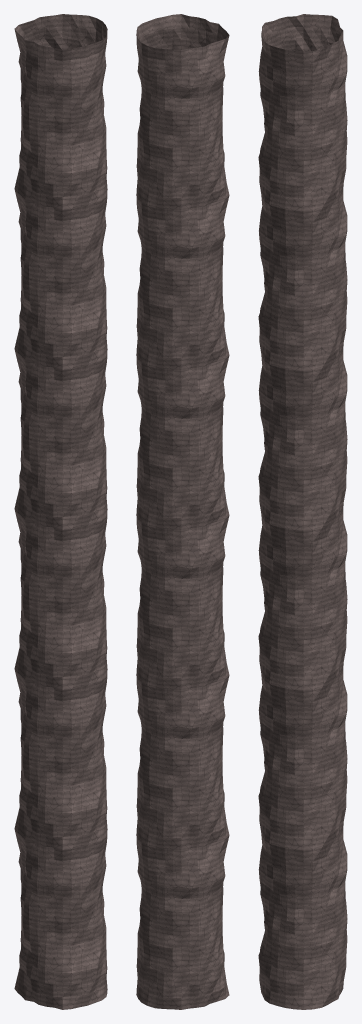
File: Shaft.obj
3 renders of one model, left to right at view 1: azimuth 30°, elevation 25°; view 2: azimuth 210°, elevation 25°; view 3: azimuth 270°, elevation 25°, orthographic.
Parts seen in each view (by area): view 1: Shaft; view 2: Shaft; view 3: Shaft.
Boxes of the visible parts, bbox=[...] form: Shaft: bbox=[14, 14, 107, 1009]; Shaft: bbox=[136, 14, 229, 1009]; Shaft: bbox=[258, 14, 347, 1009].
Size of the model in its own units: 33.78 by 390 by 32.84.
Materials: 1 (1 with a texture image).
